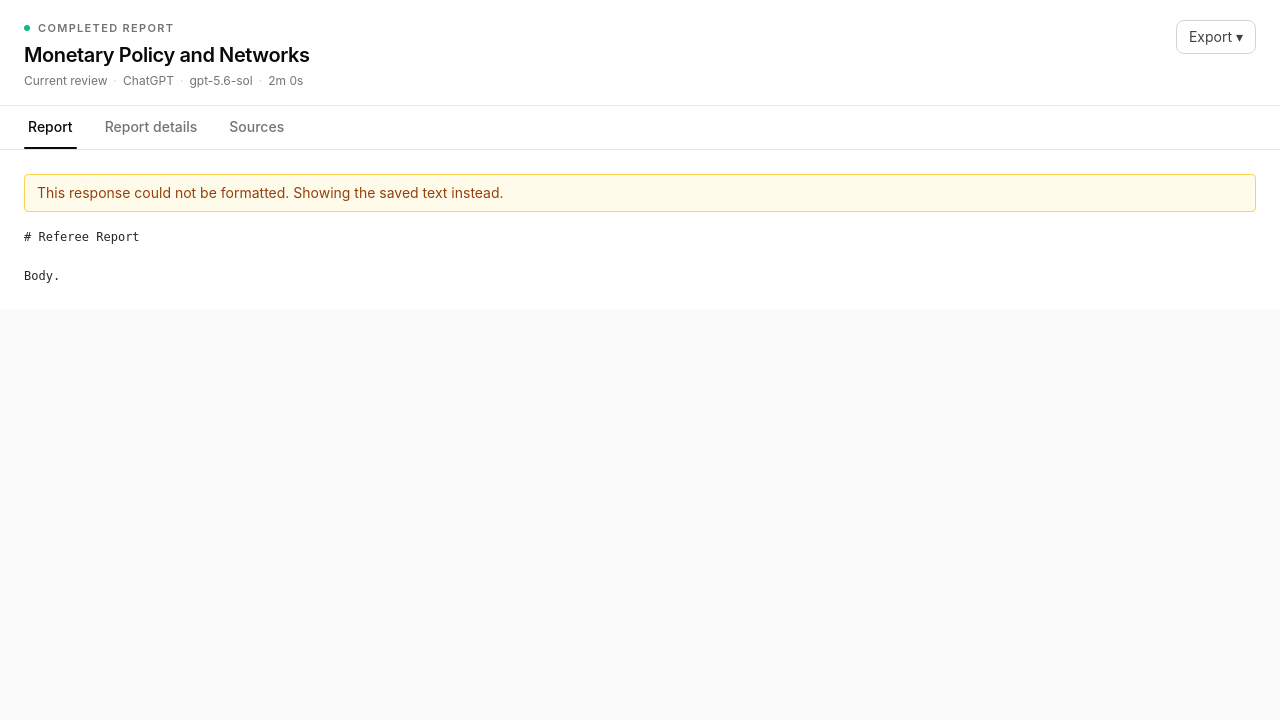
Scenario: ReportWorkspace › carries rounded seconds into minutes instead of displaying 60 seconds
The image size is (1280, 720).
Click the tab "Report details".
click(151, 127)  # box [101,105,201,149]
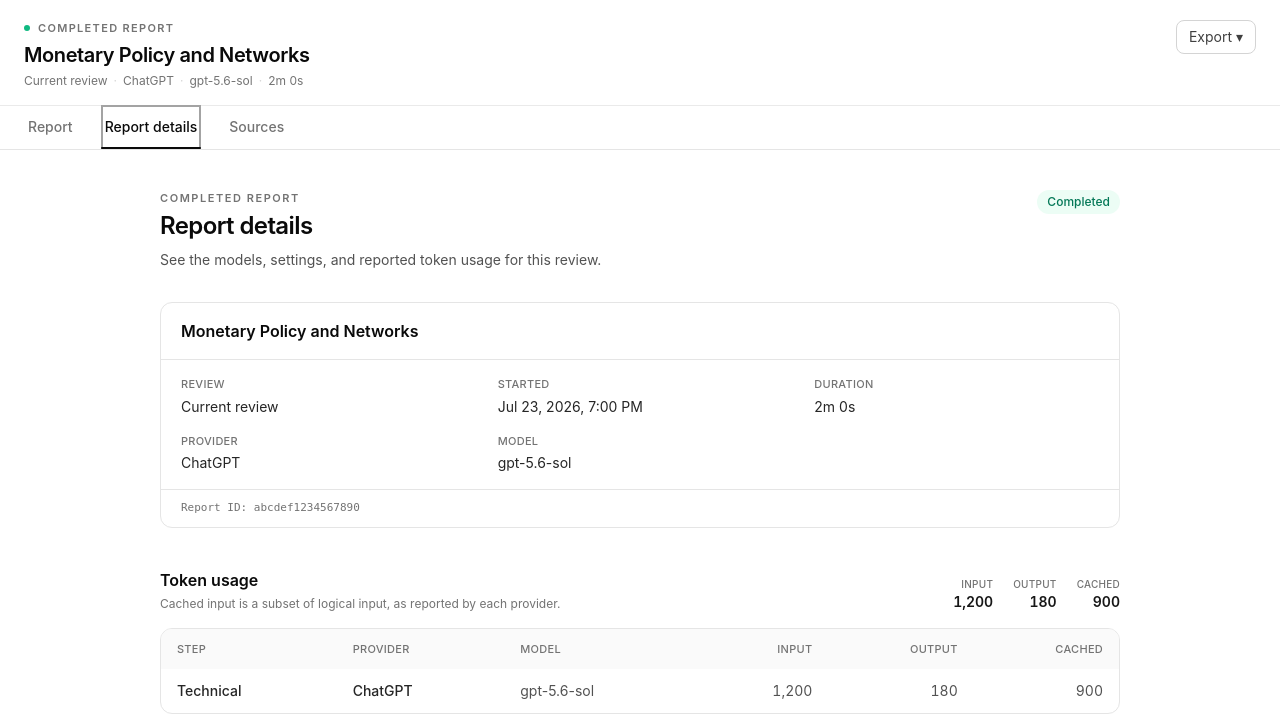
Expected: the text "2m 0s" is shown, [814,398,855,414]
